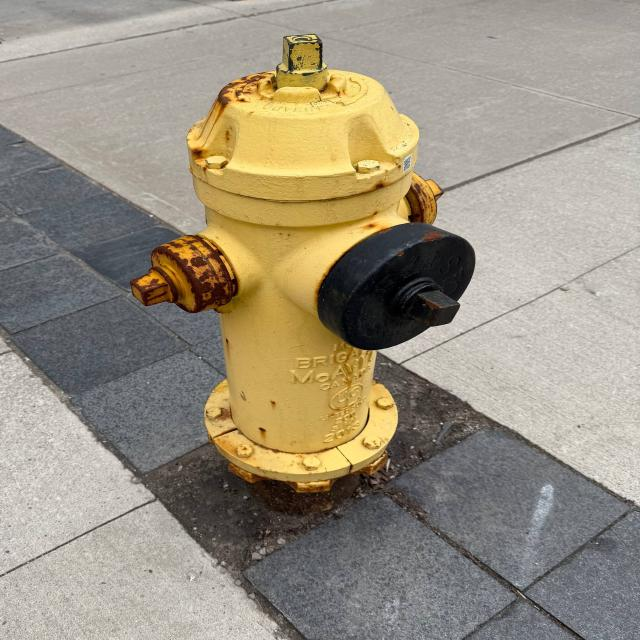Fire hydrant: (130, 33, 477, 494)
